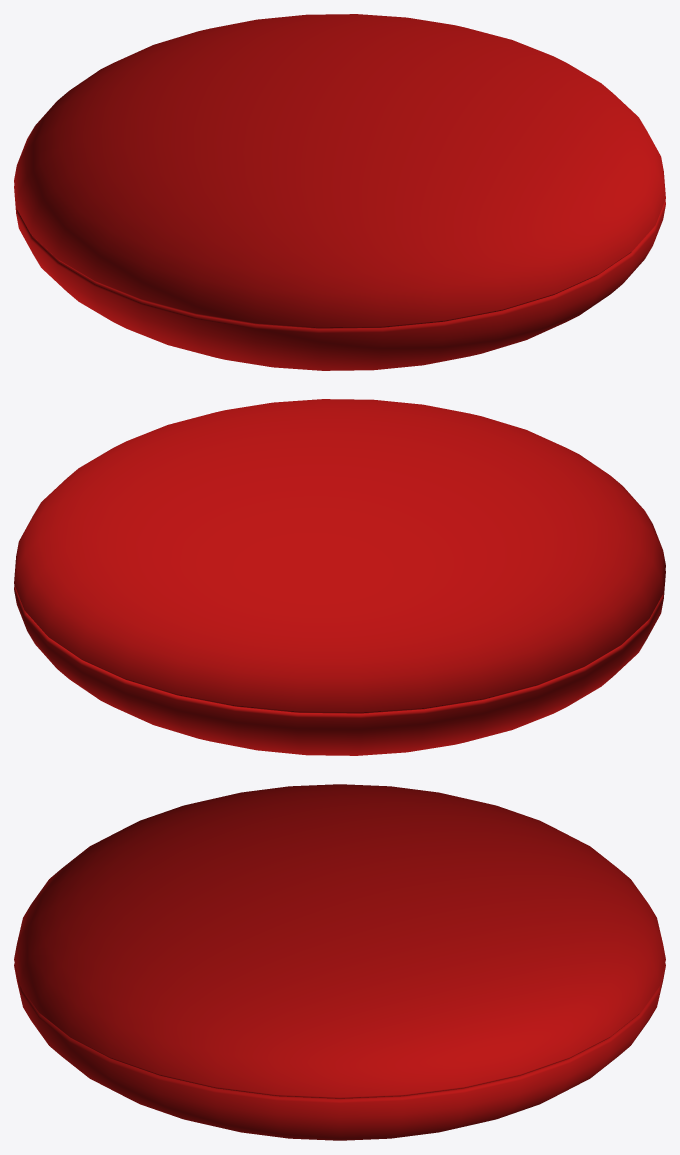
Rendered from yoyo.obj.
3 views of the same model, one above another, from view 1: azimuth 30°, elevation 25°; view 2: azimuth 150°, elevation 25°; view 3: azimuth 270°, elevation 25° (orthographic).
Visible parts, largest first — view 1: msh_chr_mar_Yoyo_00_00_LOD00; view 2: msh_chr_mar_Yoyo_00_00_LOD00; view 3: msh_chr_mar_Yoyo_00_00_LOD00.
Boxes of the visible parts, <box> form: msh_chr_mar_Yoyo_00_00_LOD00: <box>14,14,665,370</box>; msh_chr_mar_Yoyo_00_00_LOD00: <box>14,399,665,755</box>; msh_chr_mar_Yoyo_00_00_LOD00: <box>14,784,665,1140</box>.
Size of the model in its own units: 0.6563 by 0.2431 by 0.6563.
Materials: 1 (1 with a texture image).
